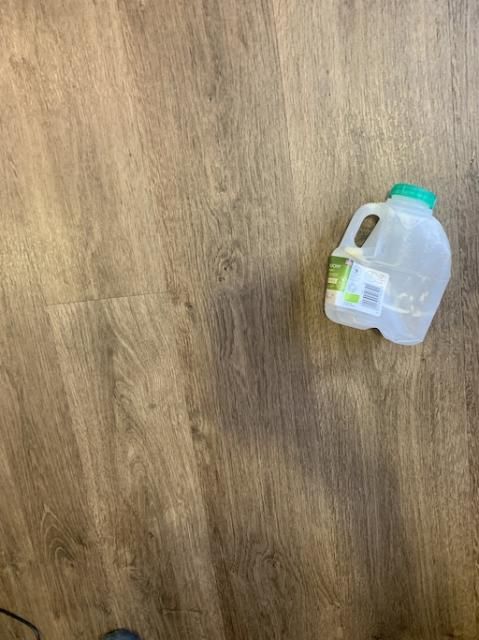plastic: (324, 183, 450, 343)
